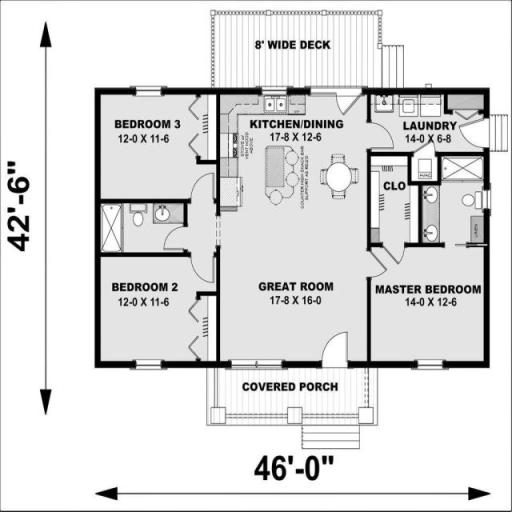bedroom: (366, 245, 486, 365), (100, 95, 213, 200), (104, 258, 216, 356)
hall: (220, 230, 363, 358)
kitchen: (225, 96, 360, 226)
laundary: (376, 98, 478, 160)
porch: (213, 372, 371, 430)
